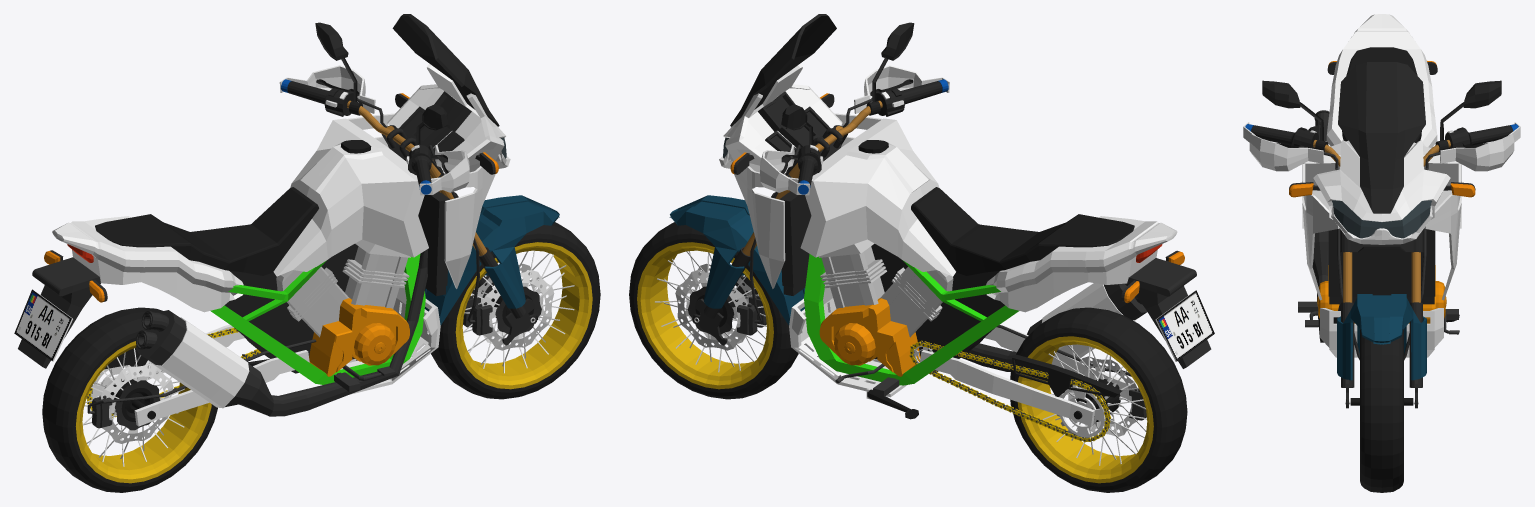
The model's file is veh-adv.glb.
3 views of the same model, side by side, from view 1: azimuth 30°, elevation 25°; view 2: azimuth 150°, elevation 25°; view 3: azimuth 270°, elevation 25° (orthographic). The views are drawn at different scales.
Visible parts, largest first — view 1: Cadre_Material_0, object 5, Guidon_Material_0, Pneu avant_Material_0, Cadre.001_Material.001_0; view 2: Cadre_Material_0, object 5, Guidon_Material_0, Pneu avant_Material_0, Cadre.001_Material.001_0; view 3: Cadre_Material_0, Guidon_Material_0, Pneu avant_Material_0.
Boxes of the visible parts, x1,y1,x2,y2 form: Cadre_Material_0: (18,14,510,428); object 5: (42,307,217,492); Guidon_Material_0: (279,22,559,345); Pneu avant_Material_0: (431,222,600,399); Cadre.001_Material.001_0: (14,289,71,360); Cadre_Material_0: (719,14,1211,442); object 5: (1010,307,1187,492); Guidon_Material_0: (669,22,949,345); Pneu avant_Material_0: (629,222,798,399); Cadre.001_Material.001_0: (1157,290,1214,361); Cadre_Material_0: (1289,14,1475,357); Guidon_Material_0: (1243,80,1520,408); Pneu avant_Material_0: (1350,329,1413,492).
Bounding box in the file's own units: 2.46 × 1.65 × 1.1.
2 materials, 2 textured.
